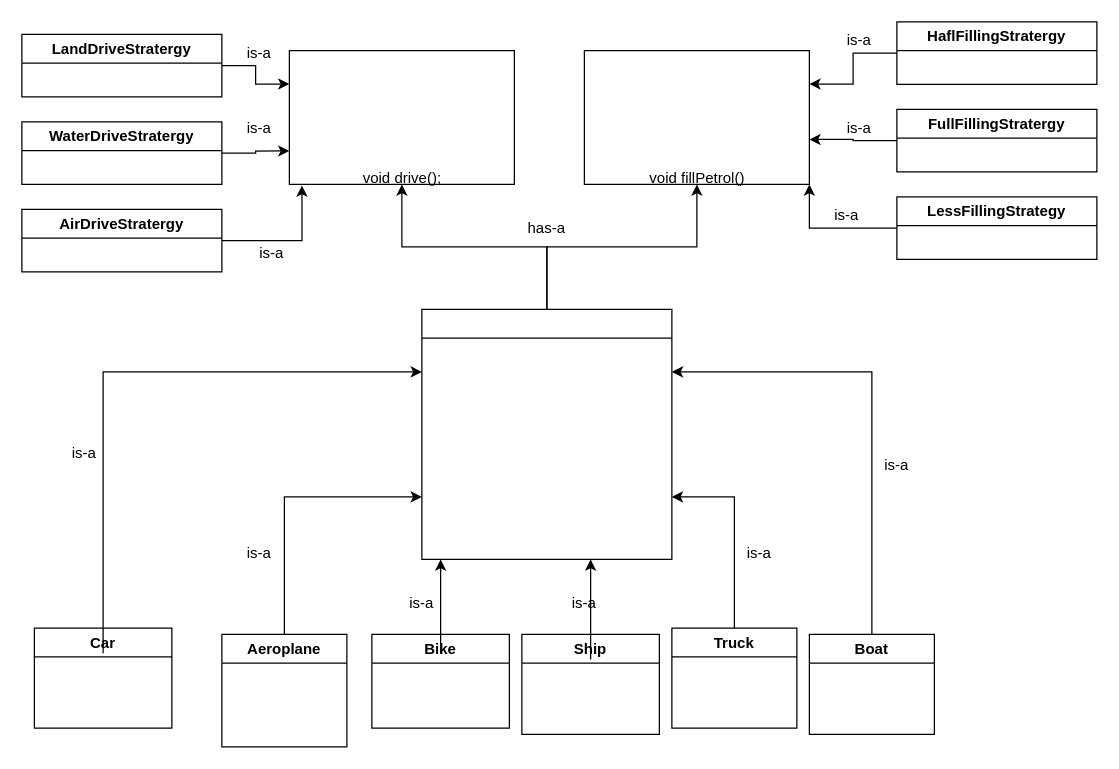
This 1119x769 diagram has some shape labels left out. The box of each missing label's shape, as (x1, y1, x2, y2) in pixels:
DriveStrategy <<Interface>>: (288, 49, 514, 184)
PetrolFillingStrategy <<Interface>>: (583, 49, 809, 184)
Vehicle: (421, 308, 672, 559)
